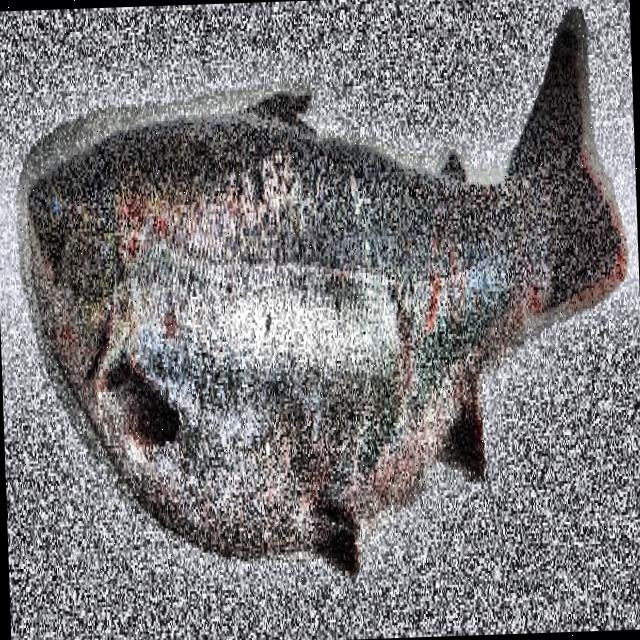mild_red: (76, 95, 517, 554)
